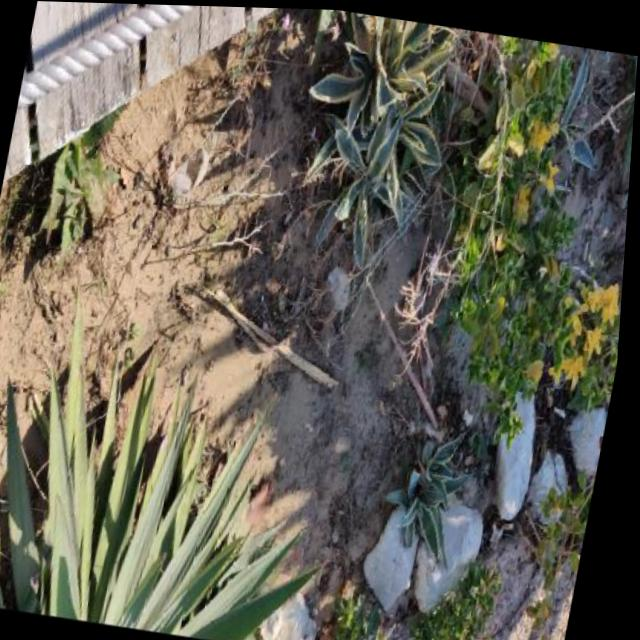plastic: (163, 145, 213, 201)
